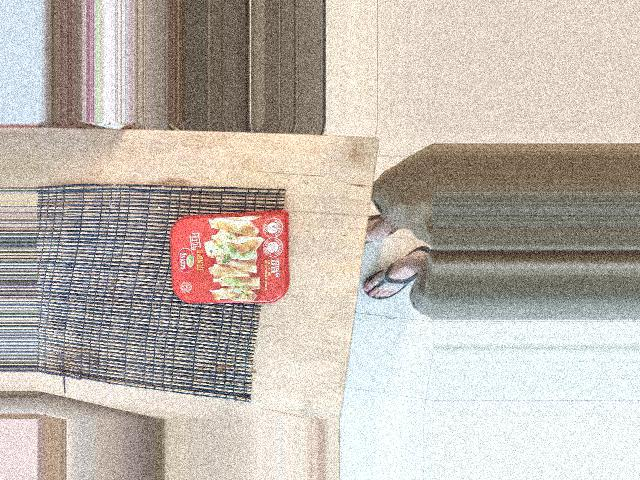cheese: (137, 249, 283, 396)
